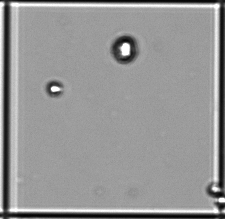Living Cell: (111, 34, 139, 64), (46, 81, 63, 97), (207, 182, 223, 195)
